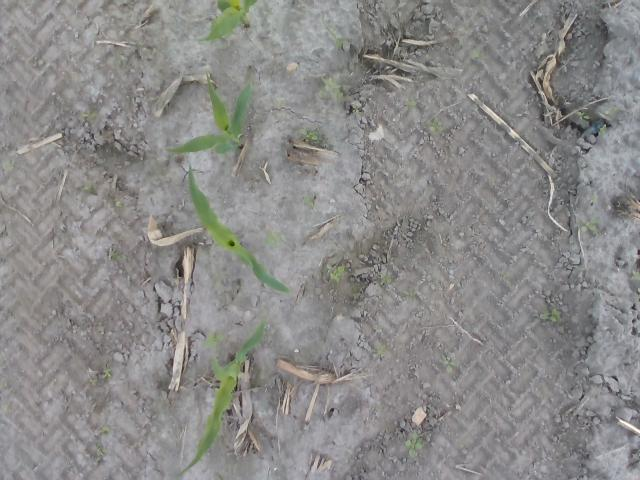Maize: (176, 321, 266, 476), (188, 160, 288, 294), (166, 70, 255, 154), (197, 0, 258, 41)
Weeds: (318, 77, 344, 98), (403, 432, 422, 458), (579, 214, 603, 234), (269, 232, 288, 247), (330, 265, 345, 283), (542, 310, 561, 324), (202, 334, 222, 347), (304, 131, 321, 145), (81, 108, 96, 120), (111, 252, 128, 262), (82, 183, 95, 193), (444, 356, 454, 367), (577, 111, 588, 121), (598, 124, 607, 136), (432, 119, 441, 130), (336, 38, 344, 49), (384, 274, 392, 284), (104, 369, 112, 376)
